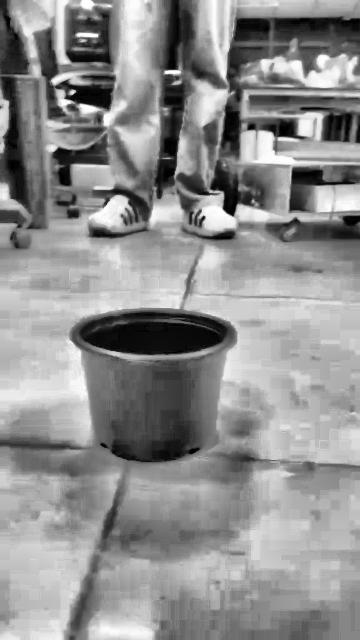pot: (72, 309, 235, 463)
